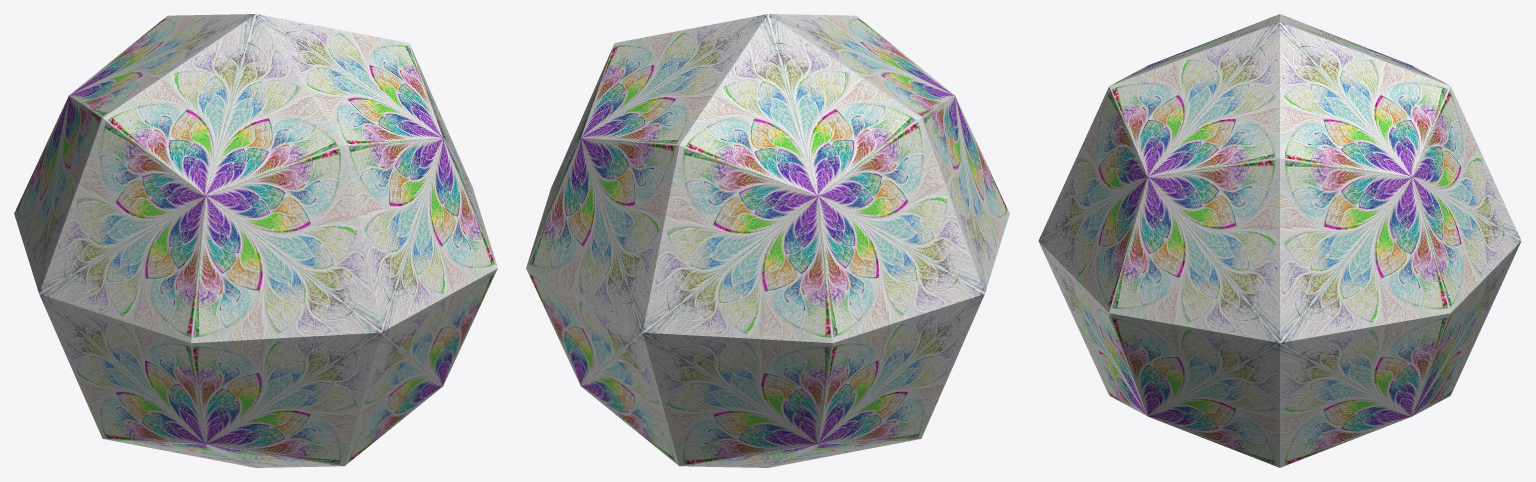
File: DeltoidalIcositetrahedron8.obj
3 views of the same model, side by side, from view 1: azimuth 30°, elevation 25°; view 2: azimuth 150°, elevation 25°; view 3: azimuth 270°, elevation 25° (orthographic). The views are drawn at different scales.
Size of the model in its own units: 2.83 by 2.83 by 2.83.
1 material, 1 textured.
